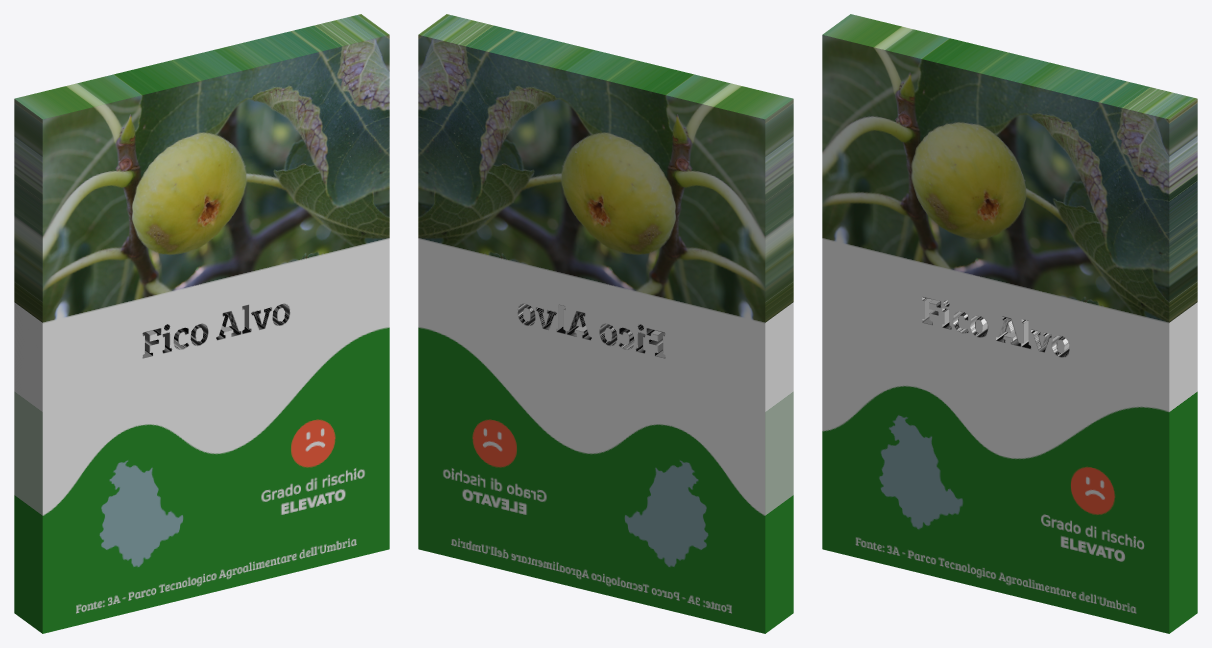
File: Poster_61.glb
3 renders of one model, left to right at view 1: azimuth 30°, elevation 25°; view 2: azimuth 150°, elevation 25°; view 3: azimuth 330°, elevation 25°, orthographic.
Bounding box in the file's own units: 0.1542 × 0.2184 × 0.0219.
Materials: 1 (1 with a texture image).
